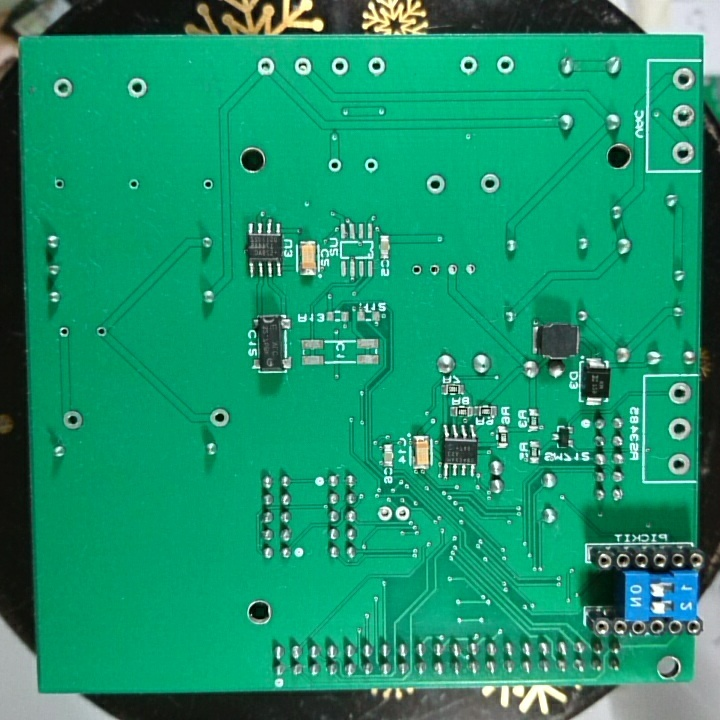F: (665, 450, 694, 480), (668, 140, 696, 168), (667, 416, 694, 444), (669, 103, 698, 129), (670, 65, 697, 92), (667, 380, 694, 406), (493, 52, 519, 78), (364, 54, 390, 80), (50, 75, 77, 100), (478, 170, 503, 197), (61, 406, 85, 433), (329, 53, 352, 81), (207, 405, 232, 430), (254, 55, 279, 80), (291, 55, 316, 80), (125, 75, 149, 101), (457, 53, 480, 79), (423, 172, 448, 195), (394, 502, 411, 528), (361, 155, 381, 175), (376, 503, 393, 526), (325, 155, 345, 174), (199, 175, 216, 193), (426, 261, 442, 280), (408, 262, 425, 279), (51, 174, 67, 192), (462, 260, 477, 279), (445, 260, 460, 279), (125, 177, 142, 193), (56, 323, 71, 340), (94, 323, 109, 339)
